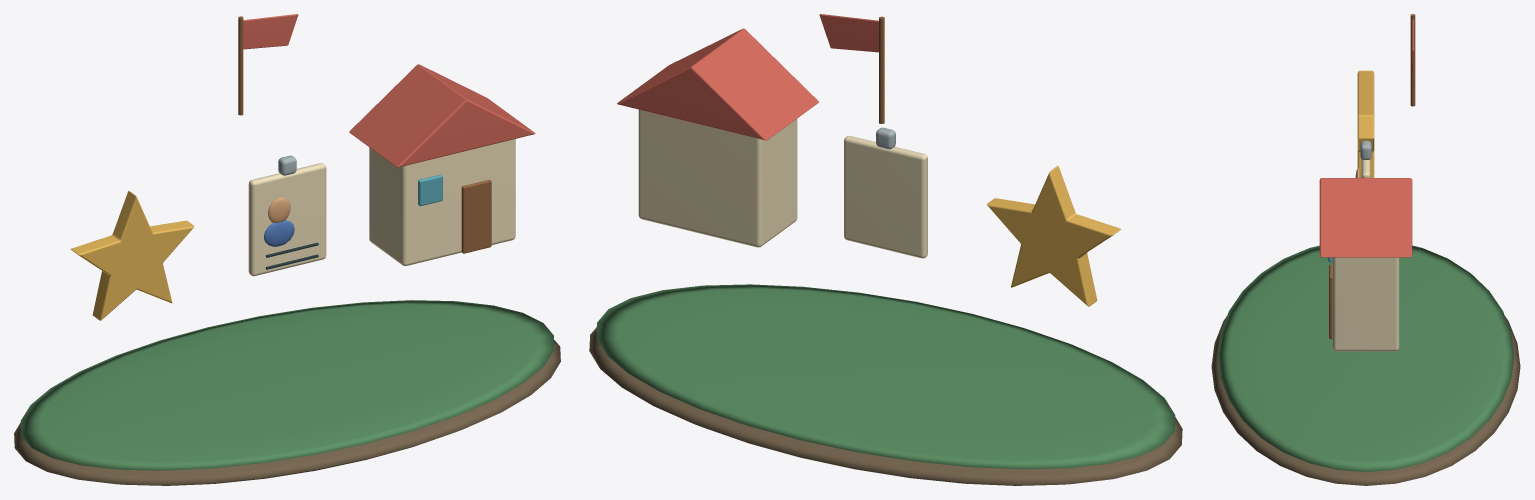
File: complete-third-large-envoy-building.glb
The picture shows the model from 3 angles, left to right: view 1: azimuth 30°, elevation 25°; view 2: azimuth 150°, elevation 25°; view 3: azimuth 270°, elevation 25°; orthographic projection. The views are drawn at different scales.
Visible parts, largest first — view 1: complete-third-large-envoy-building_surface_01, complete-third-large-envoy-building_surface_03, complete-third-large-envoy-building_surface_08, complete-third-large-envoy-building_surface_00, complete-third-large-envoy-building_surface_02, complete-third-large-envoy-building_surface_09, complete-third-large-envoy-building_surface_10, complete-third-large-envoy-building_surface_06; view 2: complete-third-large-envoy-building_surface_01, complete-third-large-envoy-building_surface_03, complete-third-large-envoy-building_surface_08, complete-third-large-envoy-building_surface_00, complete-third-large-envoy-building_surface_02, complete-third-large-envoy-building_surface_09; view 3: complete-third-large-envoy-building_surface_01, complete-third-large-envoy-building_surface_08, complete-third-large-envoy-building_surface_03, complete-third-large-envoy-building_surface_00, complete-third-large-envoy-building_surface_02, complete-third-large-envoy-building_surface_09.
Part boxes in pixels (x1,y1,x2,y2): complete-third-large-envoy-building_surface_01: (20, 300, 554, 470); complete-third-large-envoy-building_surface_03: (248, 139, 515, 276); complete-third-large-envoy-building_surface_08: (243, 14, 535, 167); complete-third-large-envoy-building_surface_00: (14, 340, 560, 485); complete-third-large-envoy-building_surface_02: (70, 191, 194, 320); complete-third-large-envoy-building_surface_09: (238, 16, 491, 253); complete-third-large-envoy-building_surface_10: (418, 174, 442, 206); complete-third-large-envoy-building_surface_06: (264, 220, 294, 246); complete-third-large-envoy-building_surface_01: (596, 284, 1175, 469); complete-third-large-envoy-building_surface_03: (638, 109, 927, 258); complete-third-large-envoy-building_surface_08: (617, 14, 878, 140); complete-third-large-envoy-building_surface_00: (589, 327, 1182, 485); complete-third-large-envoy-building_surface_02: (987, 166, 1120, 306); complete-third-large-envoy-building_surface_09: (879, 16, 884, 123); complete-third-large-envoy-building_surface_01: (1217, 245, 1514, 471); complete-third-large-envoy-building_surface_08: (1319, 19, 1413, 257); complete-third-large-envoy-building_surface_03: (1332, 140, 1399, 351); complete-third-large-envoy-building_surface_00: (1211, 316, 1520, 485); complete-third-large-envoy-building_surface_02: (1357, 70, 1374, 177); complete-third-large-envoy-building_surface_09: (1329, 14, 1415, 338).
Size of the model in its own units: 4.56 by 3.18 by 2.5.
